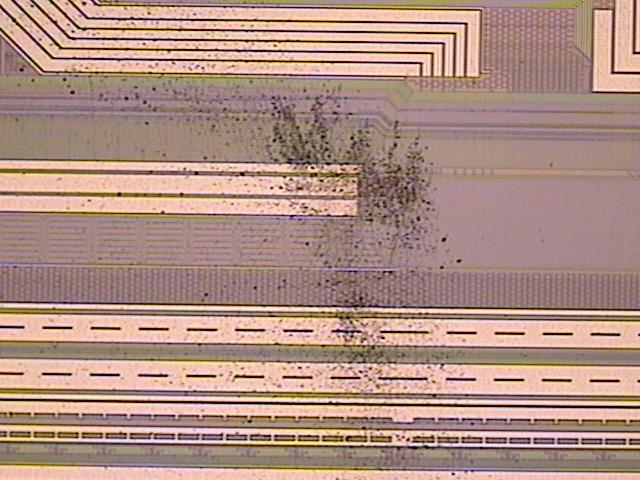PO CONTAMINATION: (1, 1, 500, 480)
